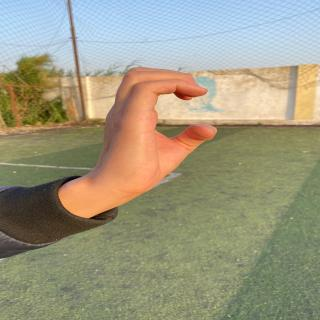JEEM: (80, 60, 258, 200)
